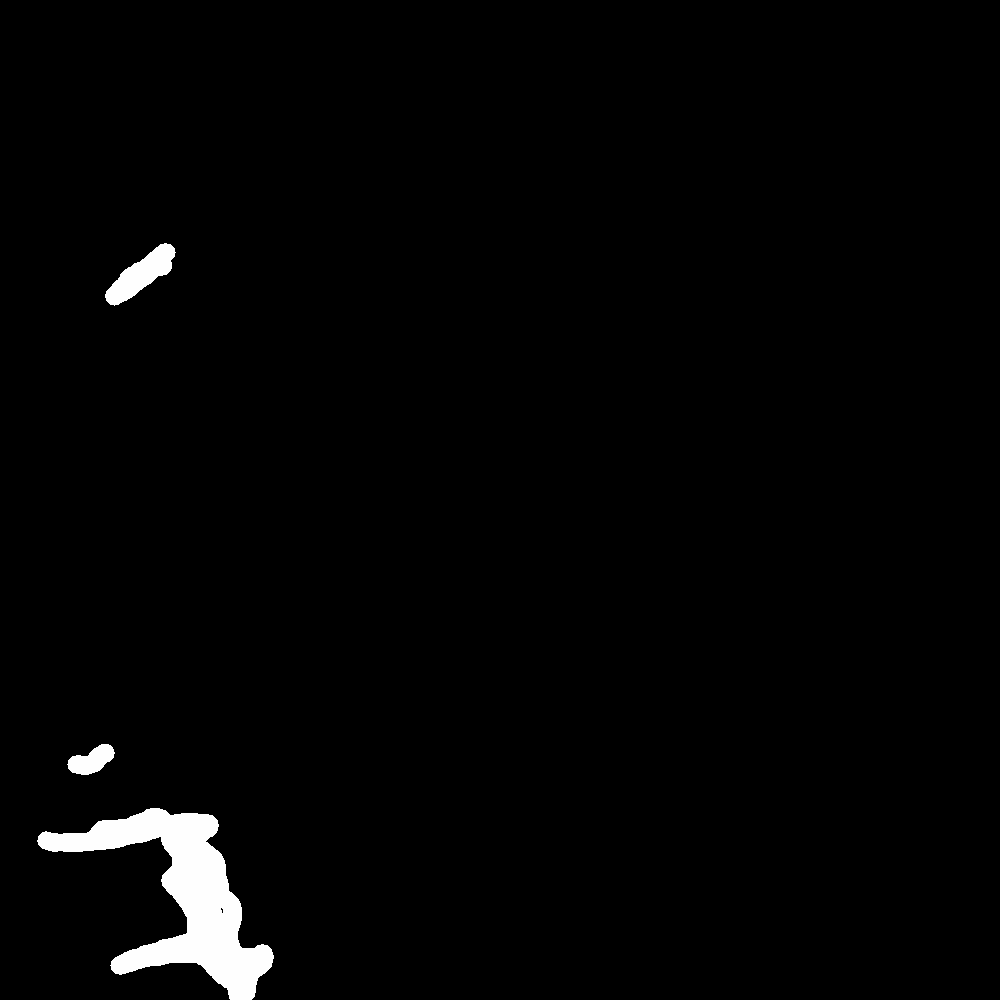illegal: (17, 817, 277, 1000), (109, 246, 175, 309), (59, 749, 130, 777)
